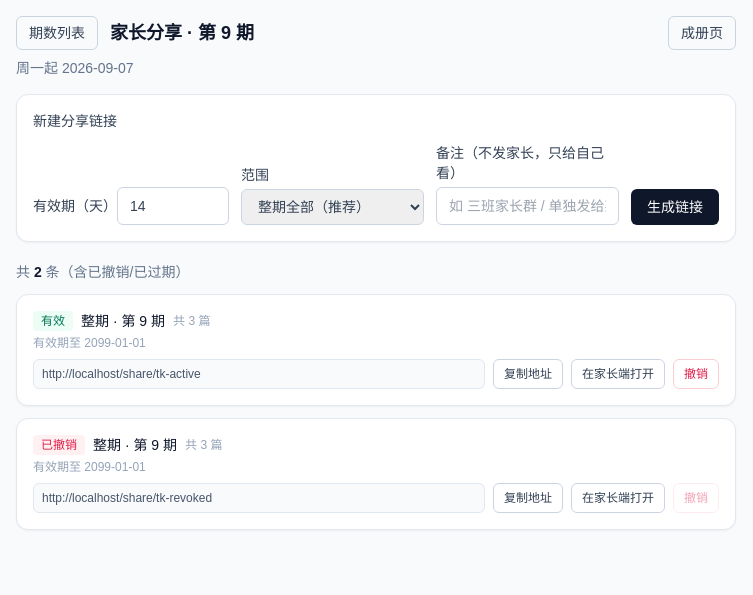
SharesPage › 非安全上下文一键复制失败时给出手动复制提示
The width and height of the screenshot is (753, 595).
Click the 1st button with test id "copy-share": (528, 374) [493,359,563,389]
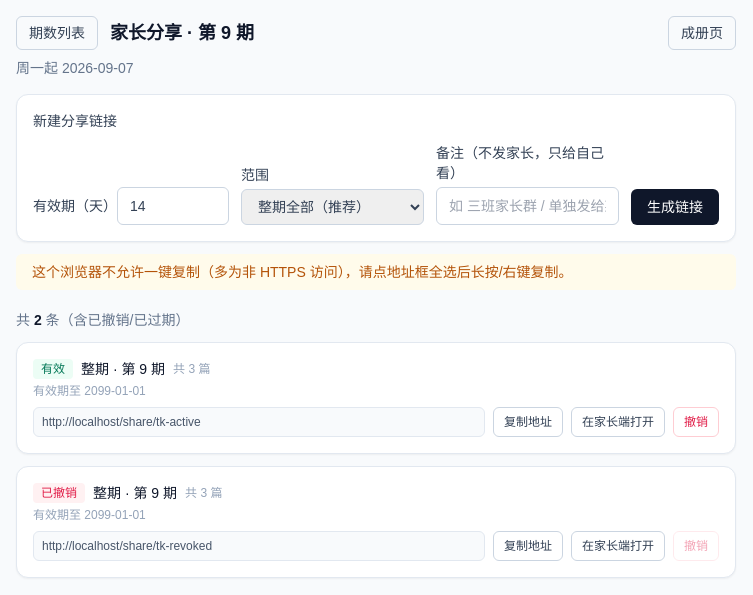
Check: the text with test id "clipboard-hint" shows "长按", box [16,254,736,290]
